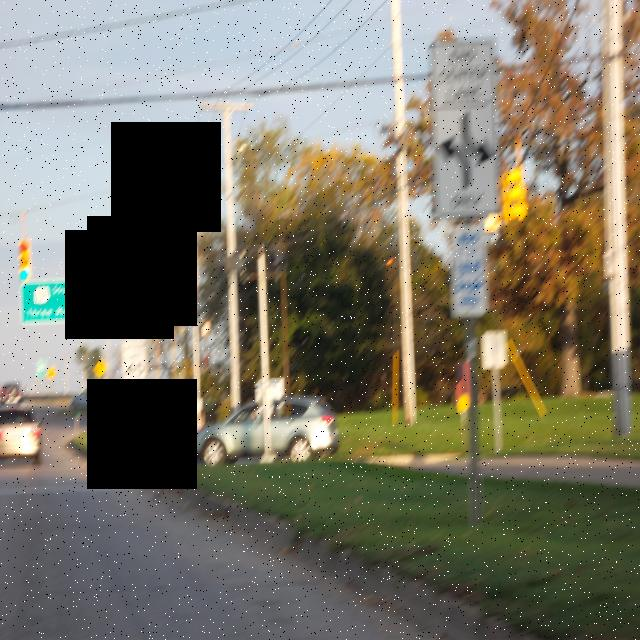regulatory: (428, 32, 501, 219)
